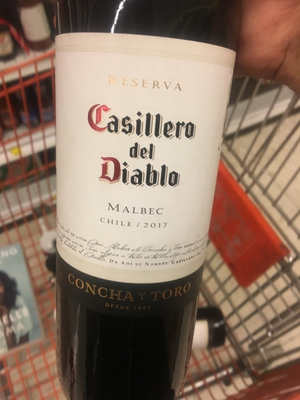casillero del diablo malbec: (46, 2, 250, 400)
